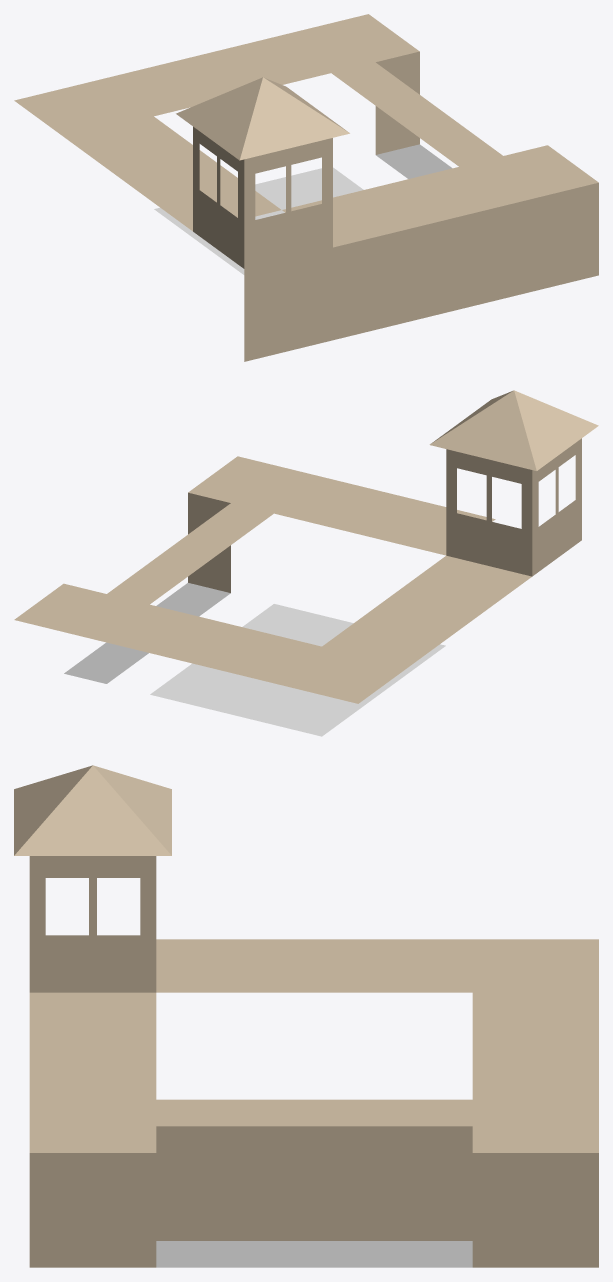
The model's file is ayuntamiento.glb.
The picture shows the model from 3 angles, top to bottom: view 1: azimuth 30°, elevation 25°; view 2: azimuth 150°, elevation 25°; view 3: azimuth 270°, elevation 25°; orthographic projection. The views are drawn at different scales.
Parts seen in each view (by area): view 1: Plane, Tower, Patio; view 2: Plane, Tower, Patio; view 3: Plane, Tower.
Part boxes in pixels (x1,y1,x2,y2): Plane: [14, 14, 598, 361]; Tower: [176, 77, 349, 268]; Patio: [154, 167, 363, 274]; Plane: [14, 456, 531, 703]; Tower: [429, 390, 598, 576]; Patio: [150, 604, 445, 736]; Plane: [29, 939, 598, 1267]; Tower: [14, 765, 171, 992].
Size of the model in its own units: 33 by 22 by 37.
